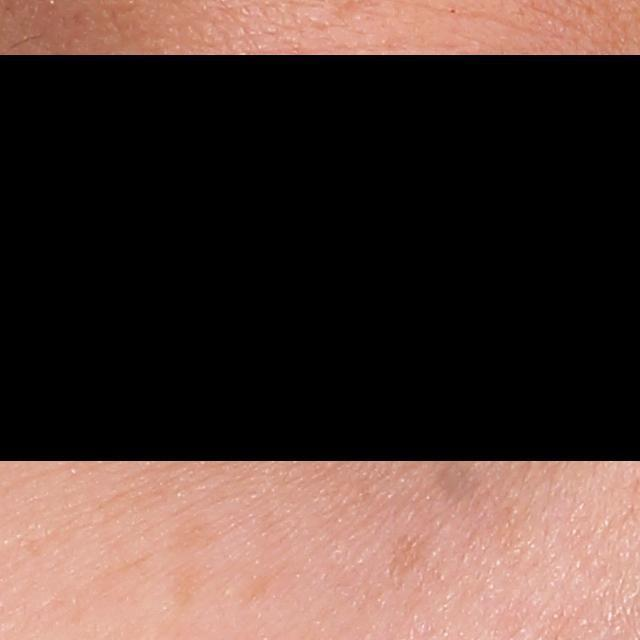melasma: (383, 534, 428, 584), (170, 559, 210, 611), (166, 513, 220, 551)
